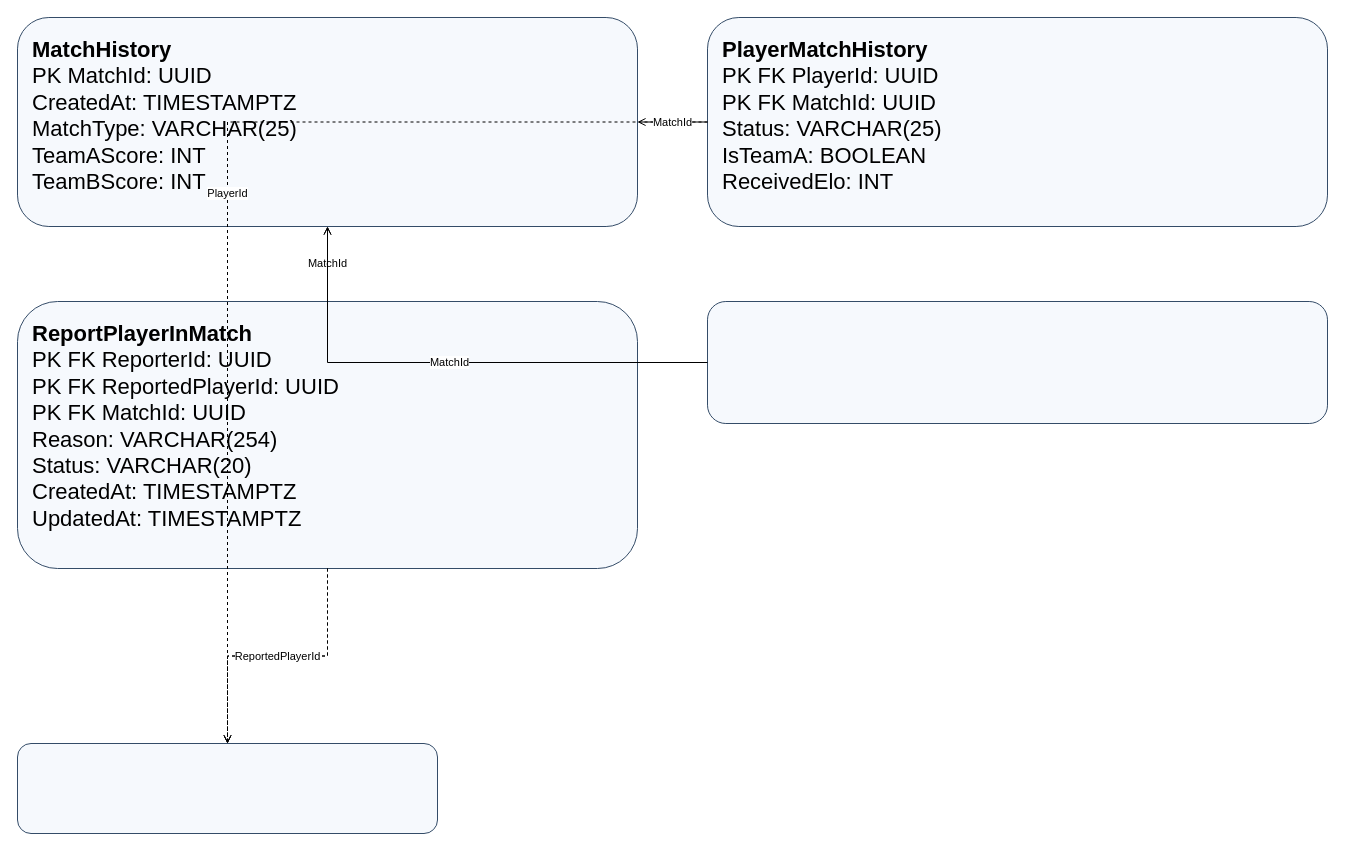
This 1345x860 diagram has some shape labels left out. Here are the shapes that lost their labels. From the top down, the centre of each, then its label:
At [1017,362]: "MatchHistoryReplay PK FK MatchId: UUID ReplayUrl: VARCHAR(1000)".
At [227,788]: "PlayerProfiles Referenced table — see other ERD".
